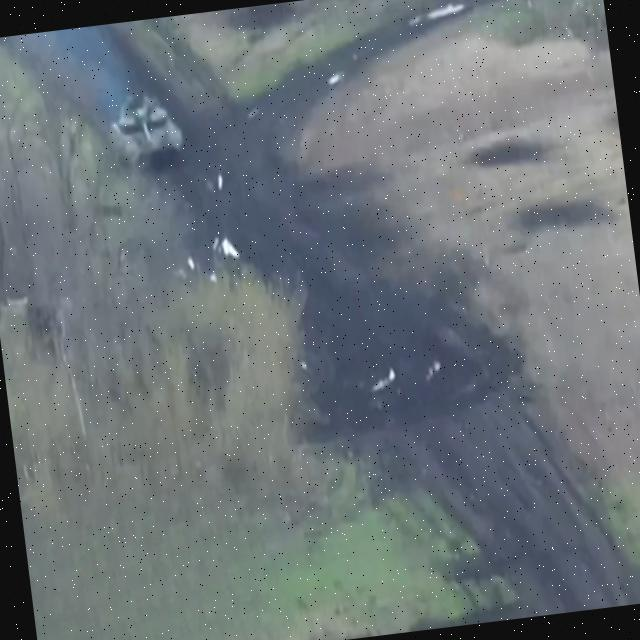MBT: (103, 83, 188, 174)
